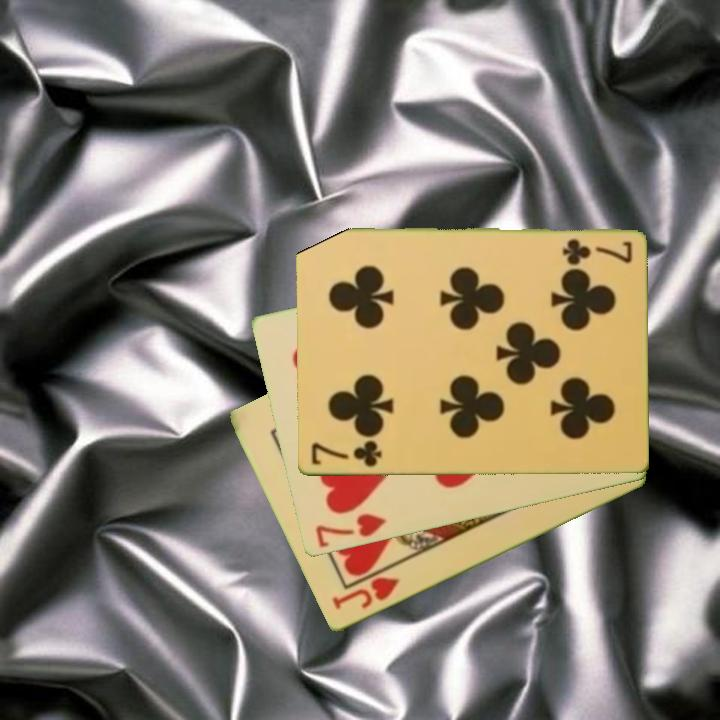7c: (308, 437, 384, 470), (558, 236, 634, 265)
7h: (311, 510, 389, 551)
Jh: (328, 573, 403, 613)
